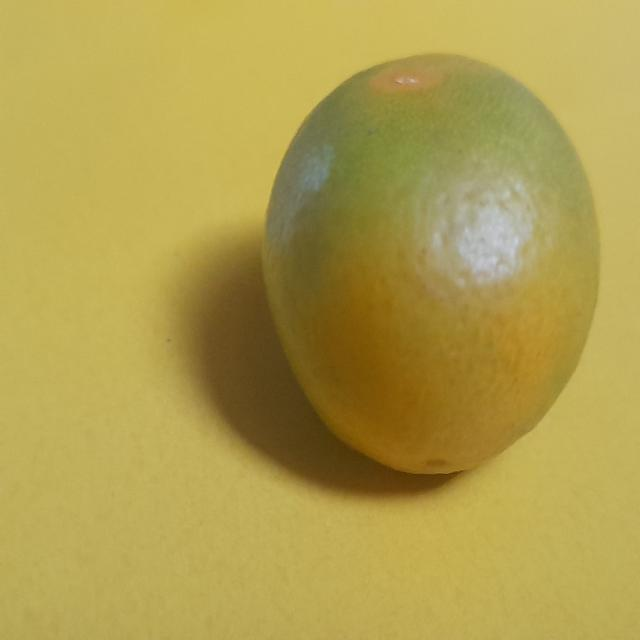greening: (254, 77, 596, 506)
